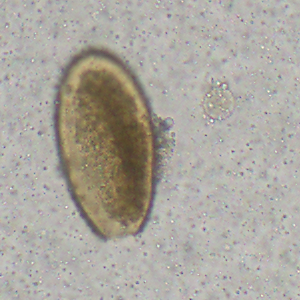Fasciola_hepatica_egg: (51, 42, 157, 243)
